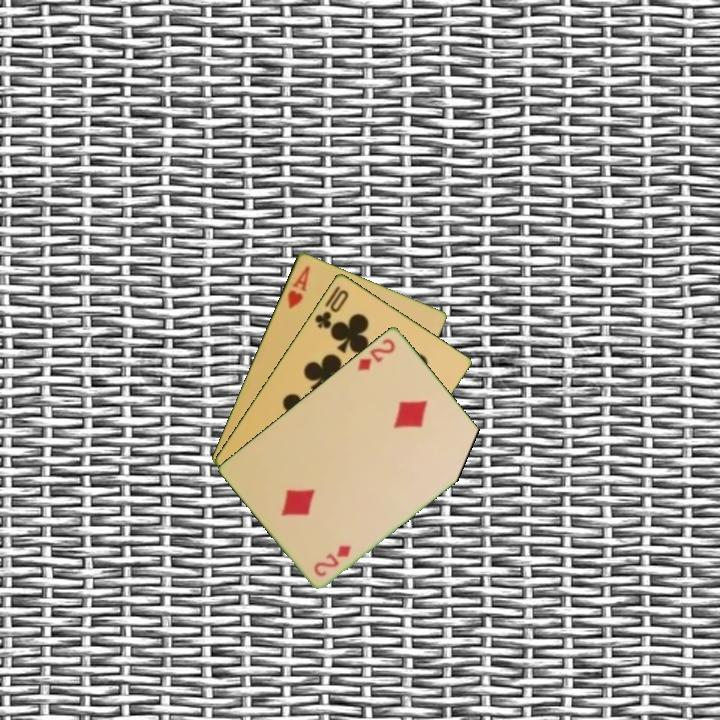10c: (311, 285, 351, 331)
2d: (354, 334, 398, 373), (310, 541, 354, 579)
Ah: (284, 261, 313, 311)
